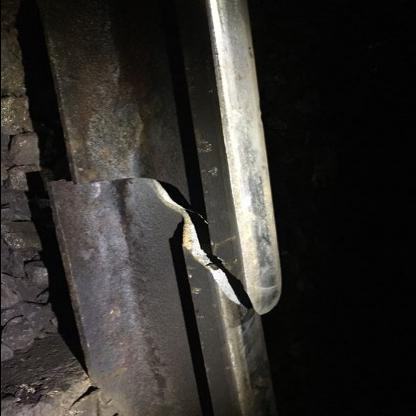Defective 2: (20, 47, 320, 415)
